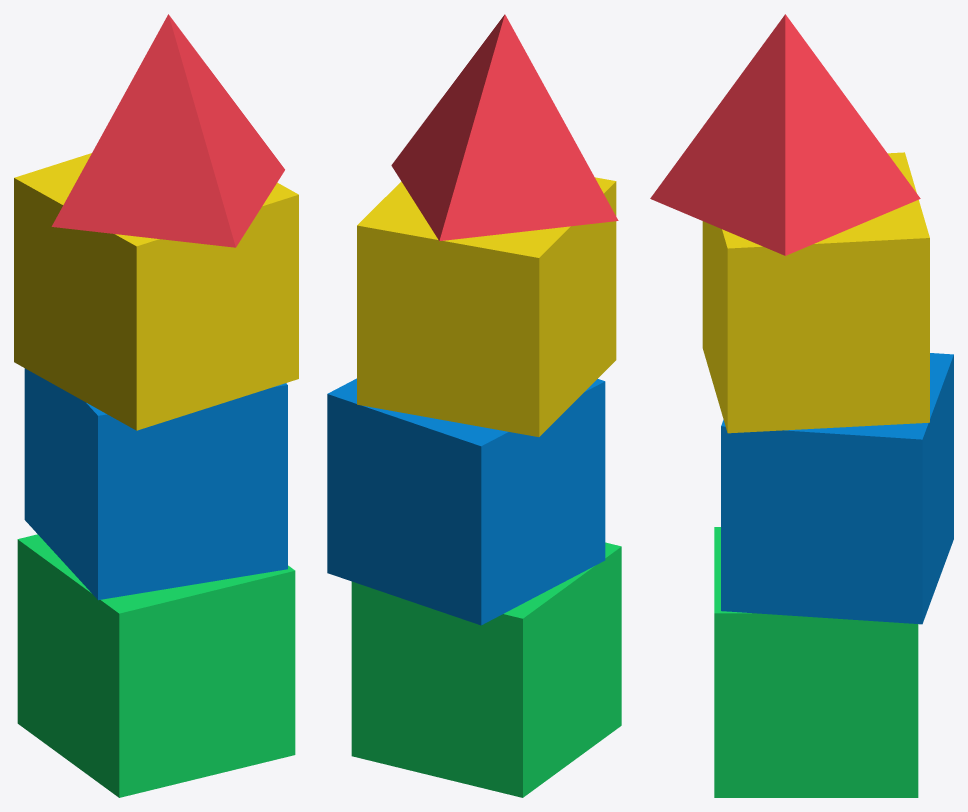
File: map_objects_tower2.fbx
3 renders of one model, left to right at view 1: azimuth 30°, elevation 25°; view 2: azimuth 150°, elevation 25°; view 3: azimuth 270°, elevation 25°, orthographic. The views are drawn at different scales.
Visible parts, largest first — view 1: Cube.001; view 2: Cube.001; view 3: Cube.001.
Part boxes in pixels (bbox=[...]): Cube.001: bbox=[14, 14, 298, 797]; Cube.001: bbox=[327, 14, 621, 797]; Cube.001: bbox=[650, 14, 953, 797].
Bounding box in the file's own units: 266 × 800 × 298.
